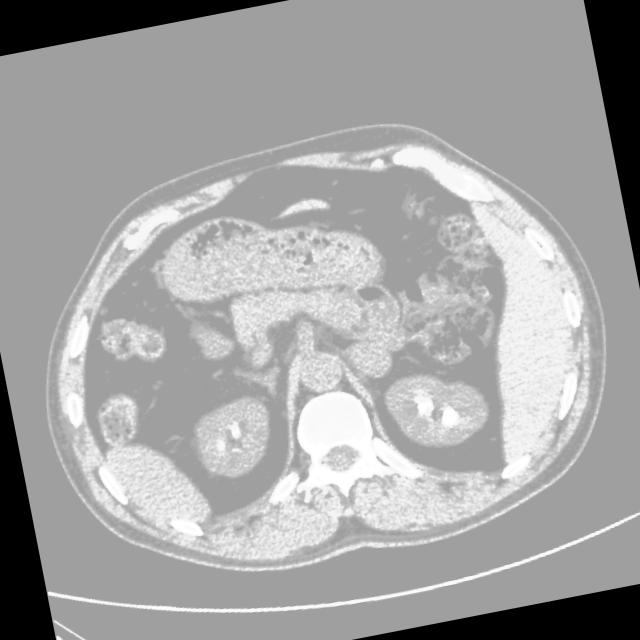STONE: (124, 245, 519, 520)
